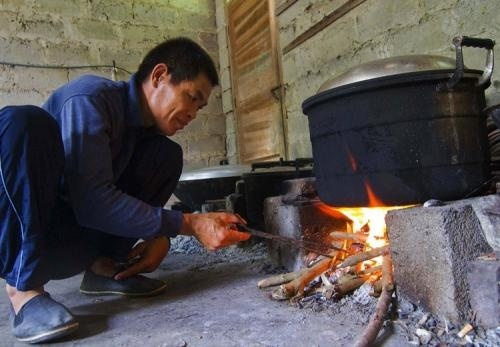fire: (325, 183, 395, 277)
